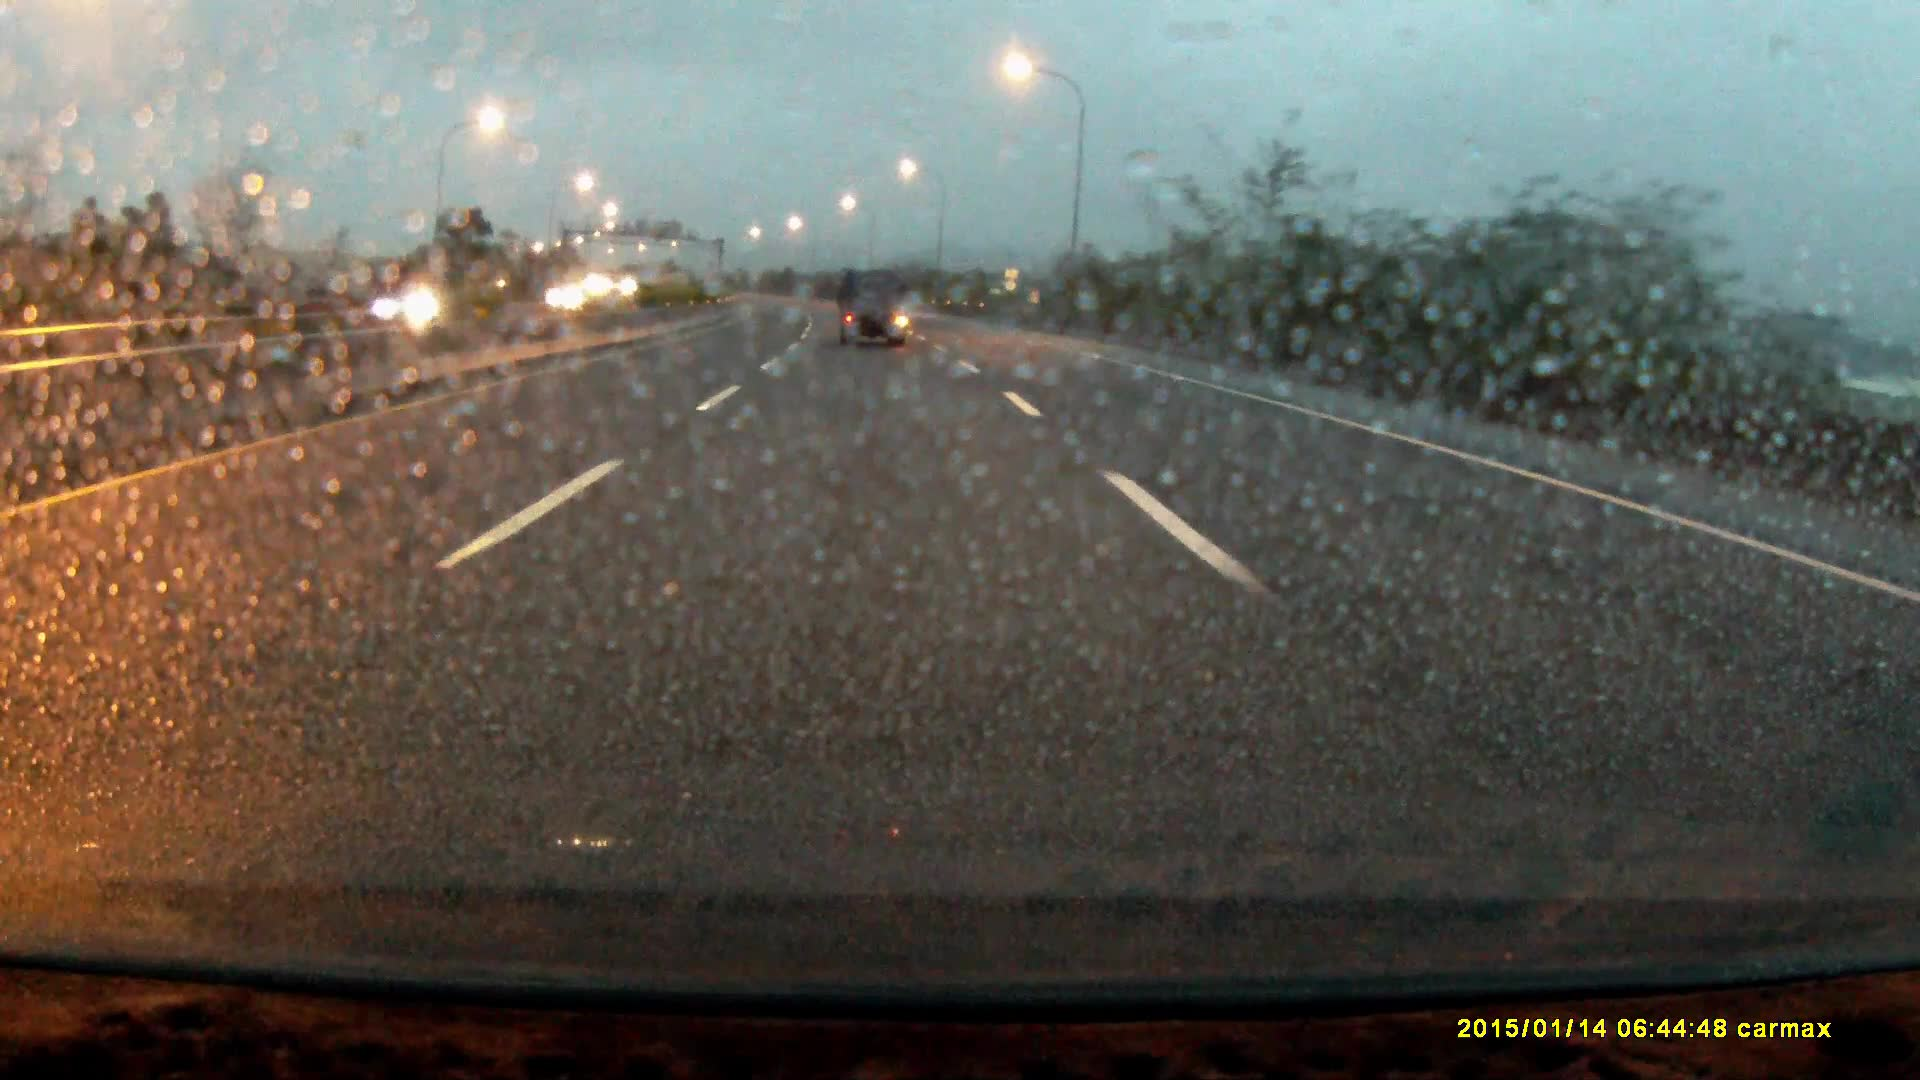vehicle: (837, 276, 909, 351), (356, 289, 462, 334)
